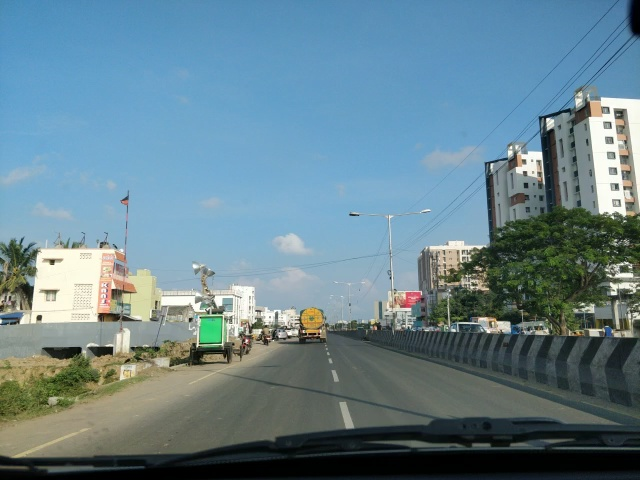bus: (473, 316, 502, 342)
car: (452, 324, 490, 340), (276, 330, 289, 340)
motorbike: (260, 330, 271, 347)
truck: (195, 315, 234, 365), (300, 310, 328, 341)
